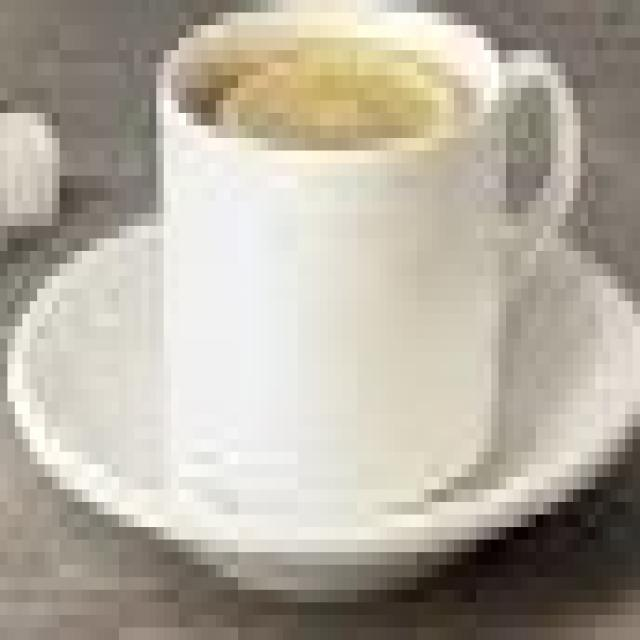taza: (133, 2, 593, 514)
